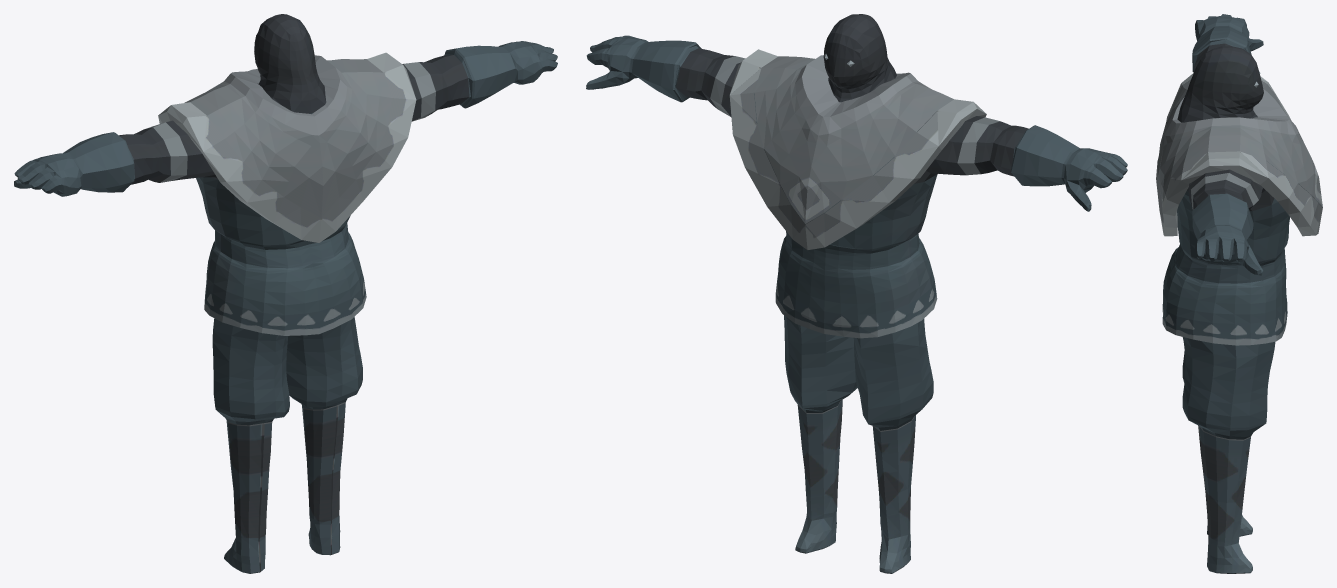
File: CharSkyNPC_Body_StrongKnight.glb
3 views of the same model, side by side, from view 1: azimuth 30°, elevation 25°; view 2: azimuth 150°, elevation 25°; view 3: azimuth 270°, elevation 25° (orthographic). The views are drawn at different scales.
Visible parts, largest first — view 1: CharSkyNPC_Body_StrongKnight; view 2: CharSkyNPC_Body_StrongKnight; view 3: CharSkyNPC_Body_StrongKnight.
Part boxes in pixels (x1=…): CharSkyNPC_Body_StrongKnight: x1=14, y1=14, x2=557, y2=573; CharSkyNPC_Body_StrongKnight: x1=586, y1=14, x2=1127, y2=573; CharSkyNPC_Body_StrongKnight: x1=1156, y1=14, x2=1322, y2=573.
Bounding box in the file's own units: 14.13 × 13.6 × 4.09.
1 material, 1 textured.
